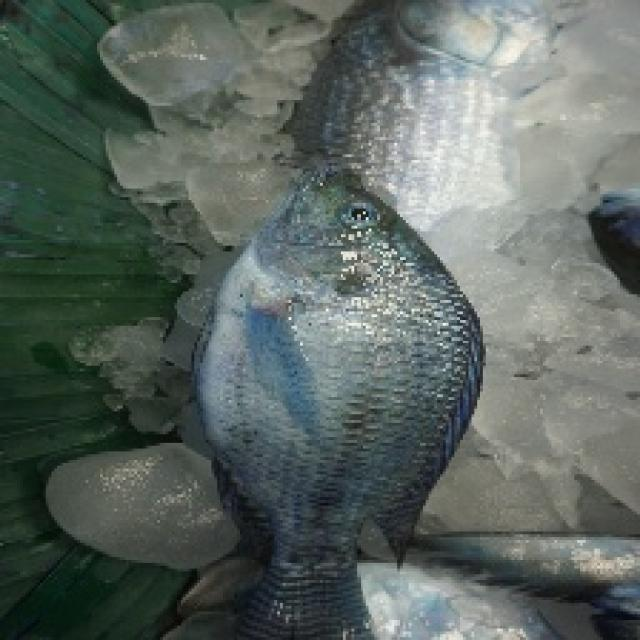Fresh: (223, 129, 439, 640)
